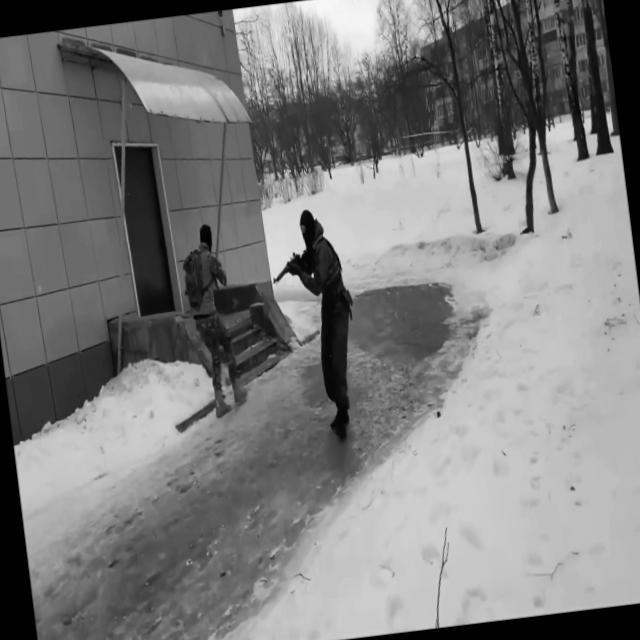gun: (267, 244, 314, 286)
person: (282, 203, 369, 440), (178, 221, 249, 420)
person with a gun: (263, 202, 371, 442)
